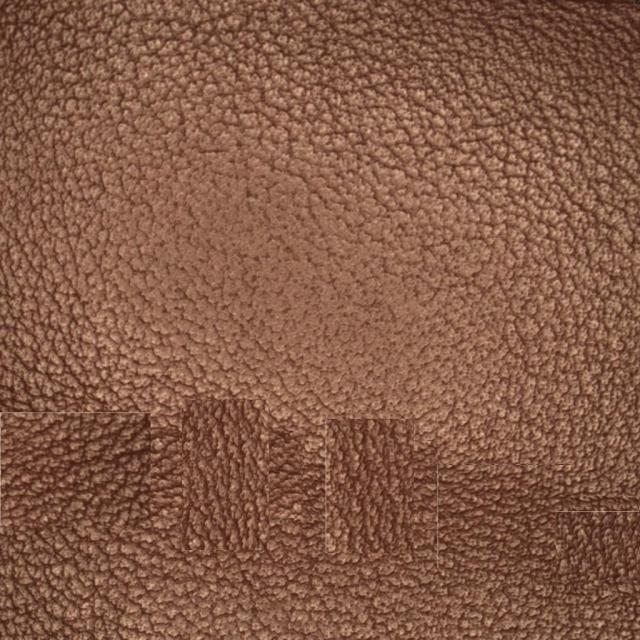Healed Injury: (162, 358, 460, 582)
